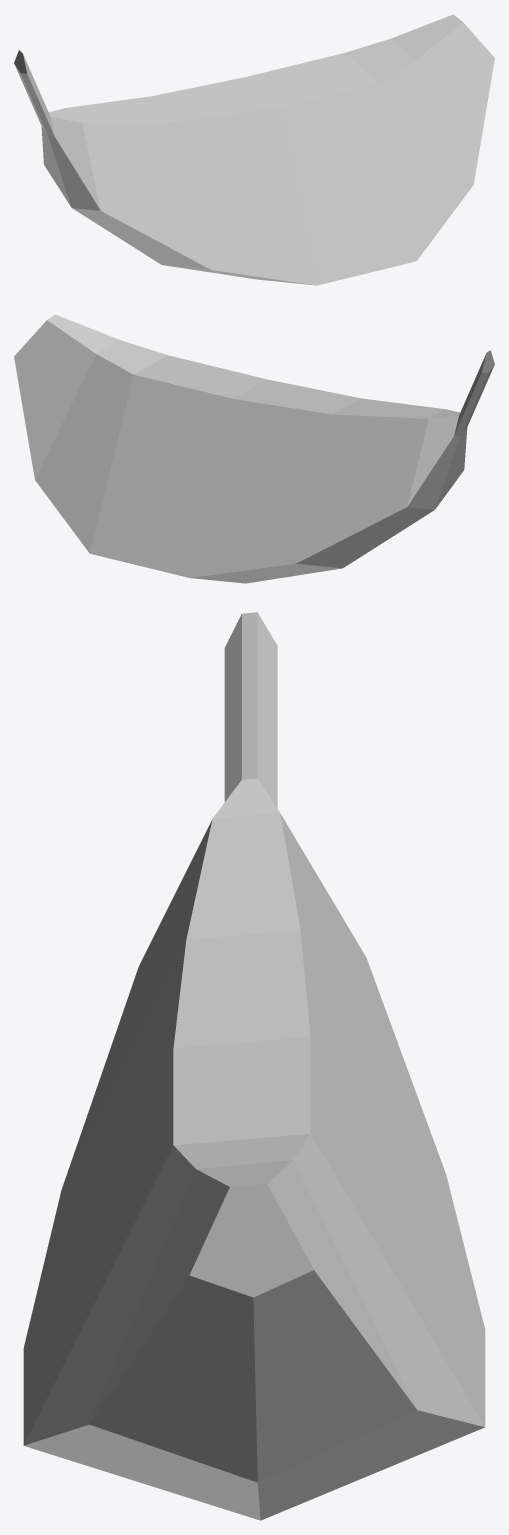
The model's file is garlic02.obj.
3 renders of one model, top to bottom at view 1: azimuth 30°, elevation 25°; view 2: azimuth 150°, elevation 25°; view 3: azimuth 270°, elevation 25°, orthographic. The views are drawn at different scales.
Parts seen in each view (by area): view 1: Cylinder.001_Cylinder.002; view 2: Cylinder.001_Cylinder.002; view 3: Cylinder.001_Cylinder.002.
Part boxes in pixels (box(x1,y1,x2,y2)): Cylinder.001_Cylinder.002: box(14, 14, 494, 285); Cylinder.001_Cylinder.002: box(14, 314, 494, 583); Cylinder.001_Cylinder.002: box(23, 612, 485, 1520).
Bounding box in the file's own units: 0.0284 × 0.0169 × 0.0122.
1 material, 1 textured.
